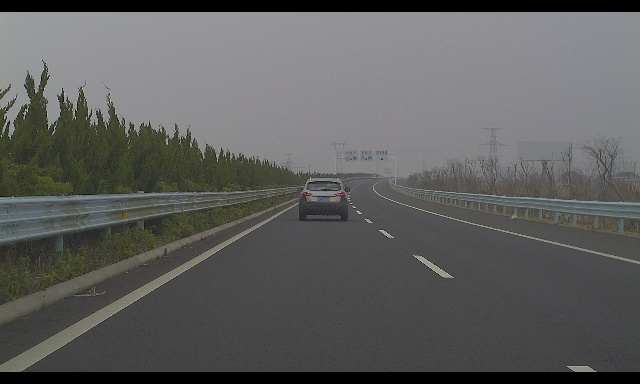car: (297, 177, 350, 221)
